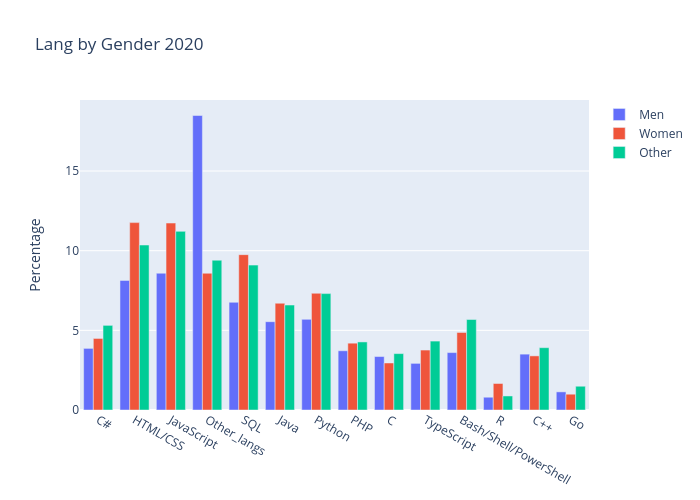

The dashboard page shown, as its layout file describes it:
{"tool":"powerbi","page":{"name":"2020","canvas":[1280,720],"ordinal":1},"visuals":[{"type":"clusteredColumnChart","fields":{"Category":["Worksheet (2).Gender"],"Y":["Worksheet (2).Assembly","Worksheet (2).Bash/Shell/PowerShell","Worksheet (2).C","Worksheet (2).C#","Worksheet (2).C++","Worksheet (2).Dart","Worksheet (2).Go","Worksheet (2).Haskell","Worksheet (2).HTML/CSS","Worksheet (2).Java","Worksheet (2).JavaScript","Worksheet (2).Julia"]},"box":[0,48.1,1280,671.6],"z":0}]}

Visuals, with their boxes on the page's 1280x720 design canvas (x1, y1, x2, y2). These are canvas units, not pixel positions in the 700x500 screenshot, which may show the page scaled, cropped or inside an application window:
clusteredColumnChart - Worksheet (2).Gender x Worksheet (2).Assembly: 0 48 1280 720
